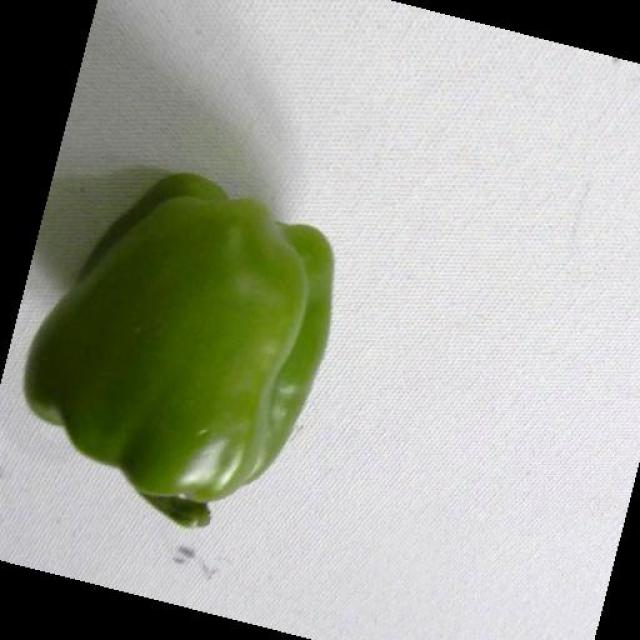Fresh_Capsicum: (20, 181, 386, 524)
